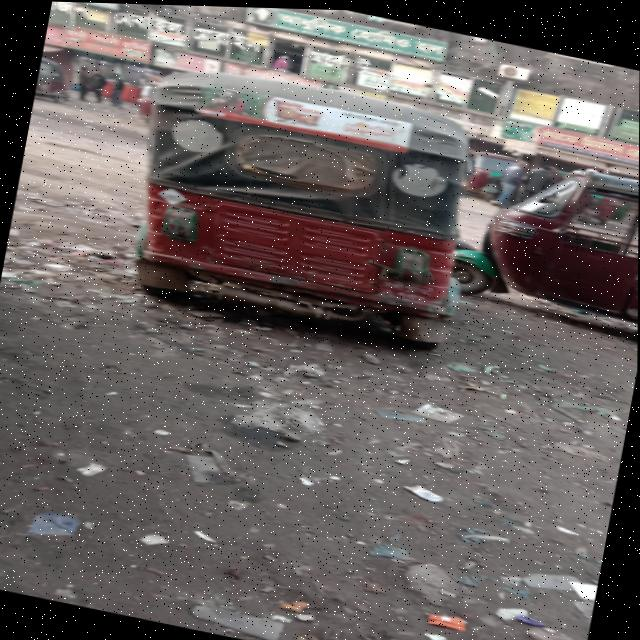cng: (110, 49, 469, 364), (460, 144, 639, 373)
